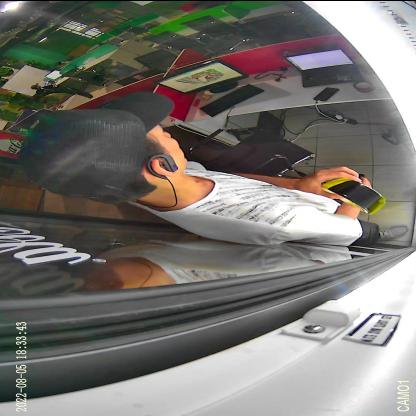yellow: (320, 176, 386, 214)
